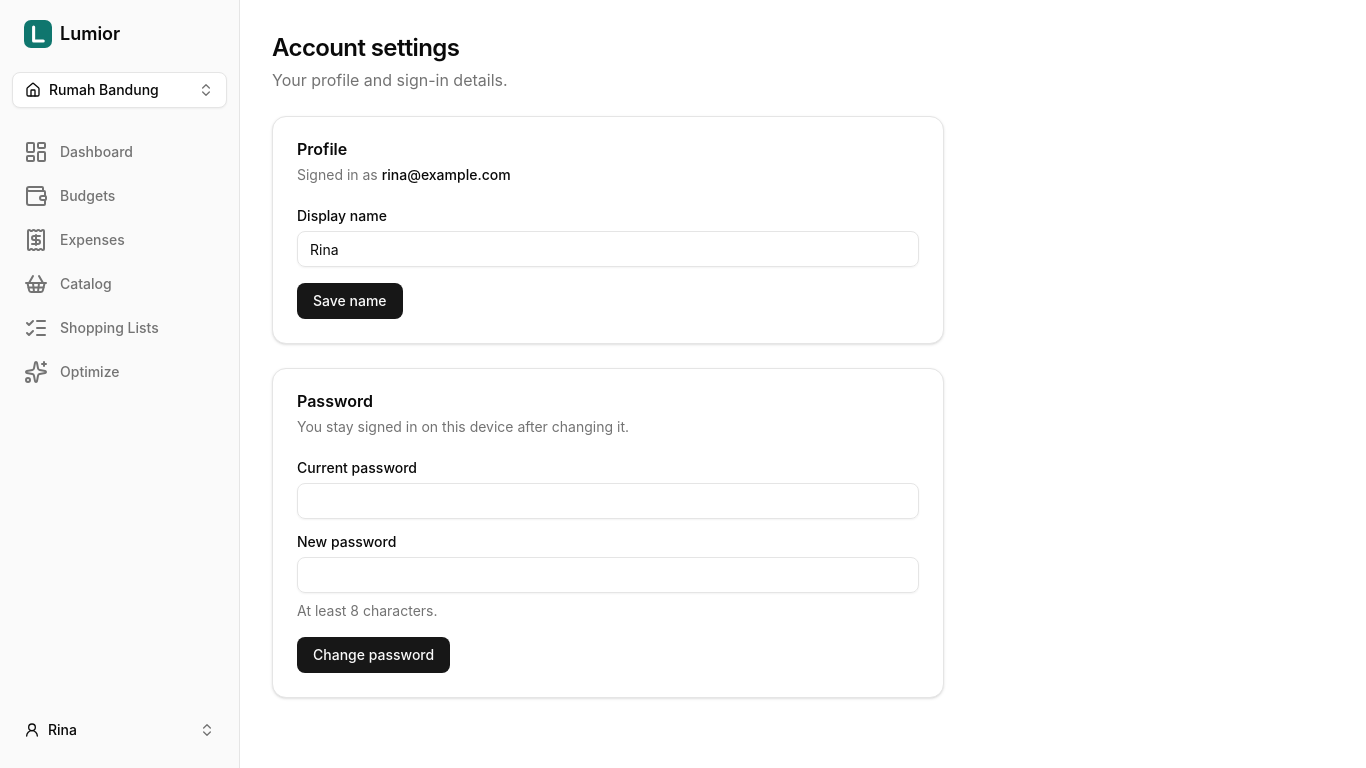
Test case: account settings › a wrong current password is shown on its field and the new password is kept
Type "not-my-password" into the password field labelled "Current password". click: coordinates (608, 501)
box: x1=297 y1=483 x2=919 y2=519
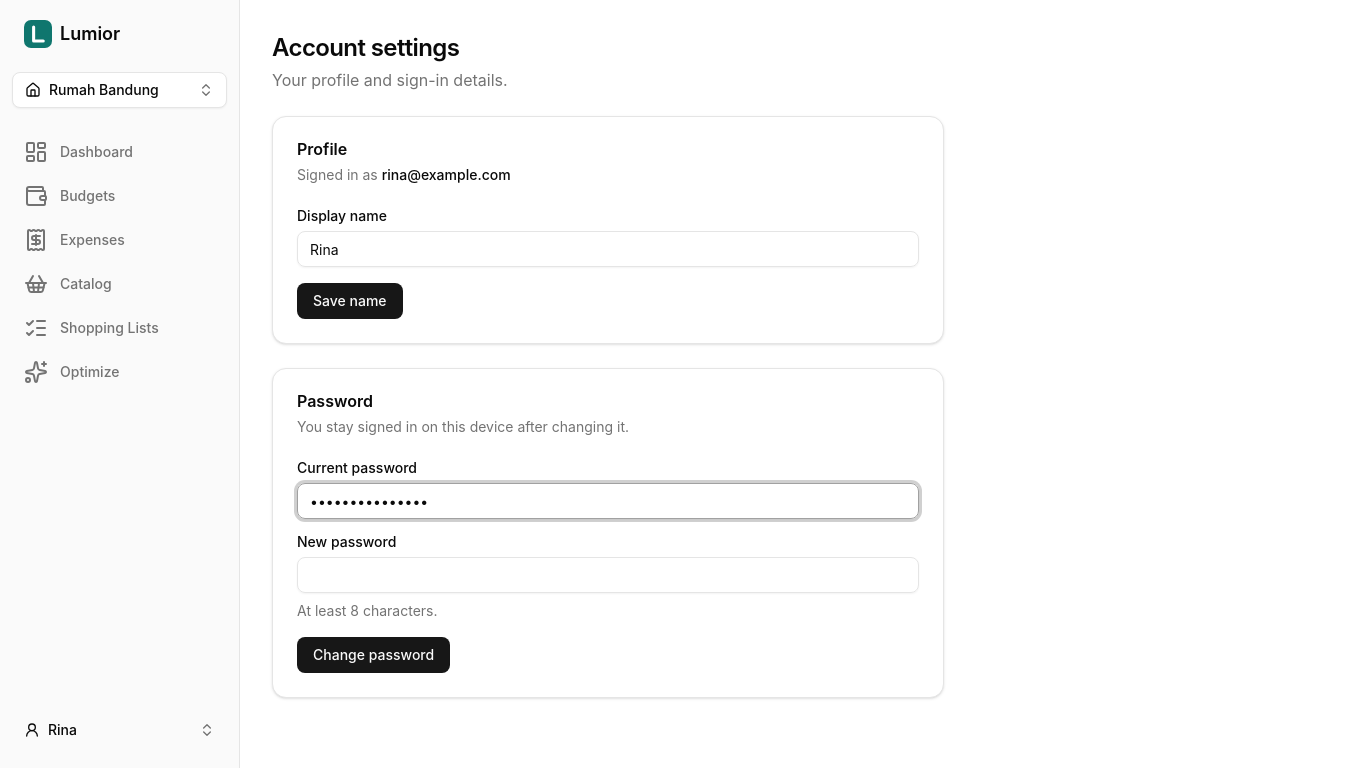
Type "a-new-password" into the password field labelled "New password". click: coordinates (608, 575)
box: x1=297 y1=557 x2=919 y2=593
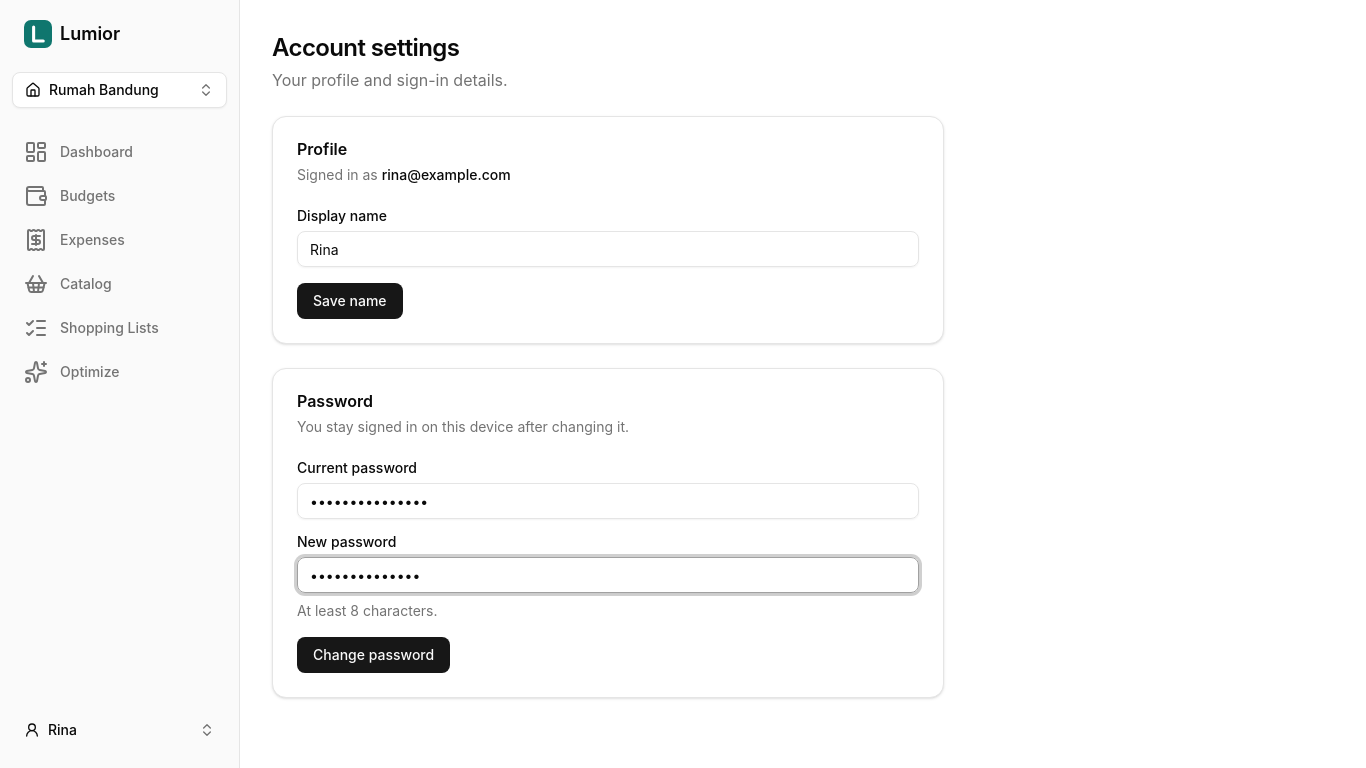
Click the button "Change password". click: coordinates (374, 655)
box: x1=297 y1=637 x2=450 y2=673
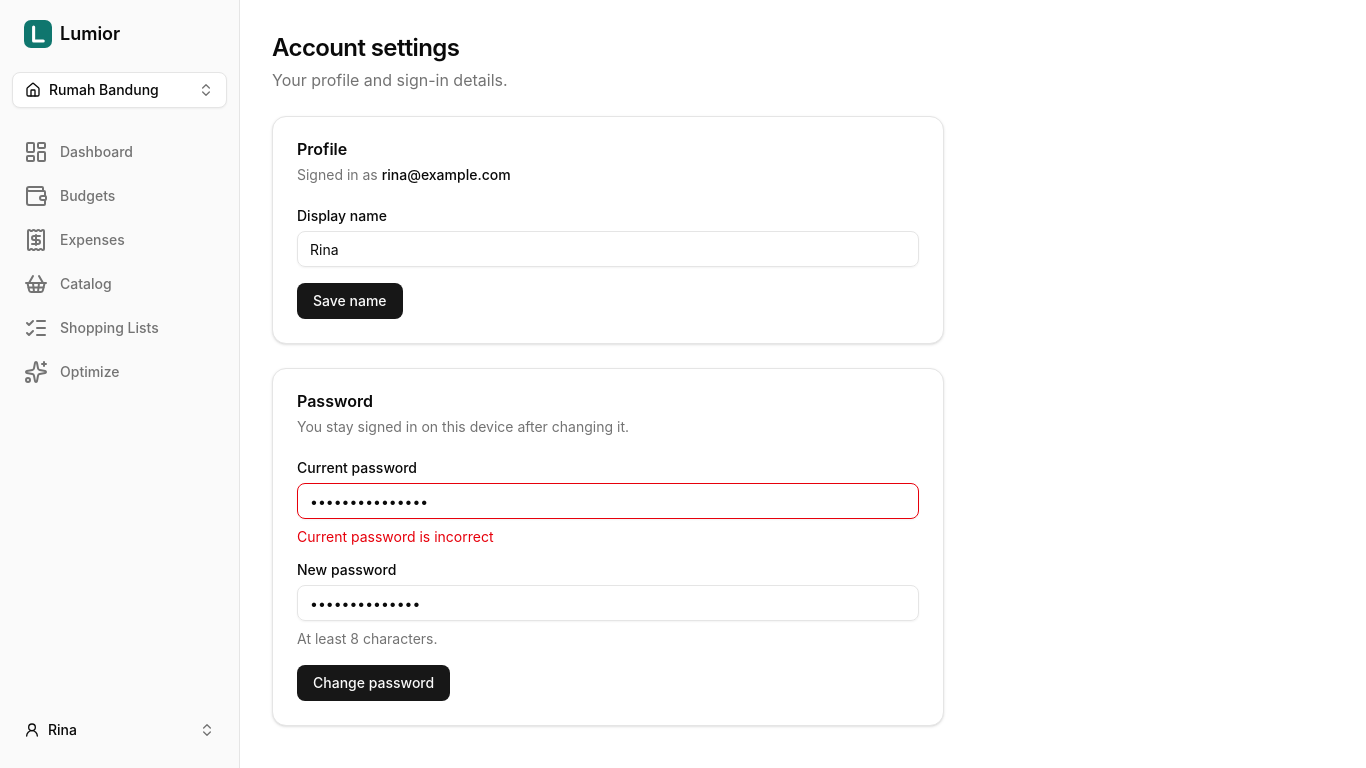
Now the text "Current password is incorrect" is shown, box x1=297 y1=528 x2=494 y2=545
